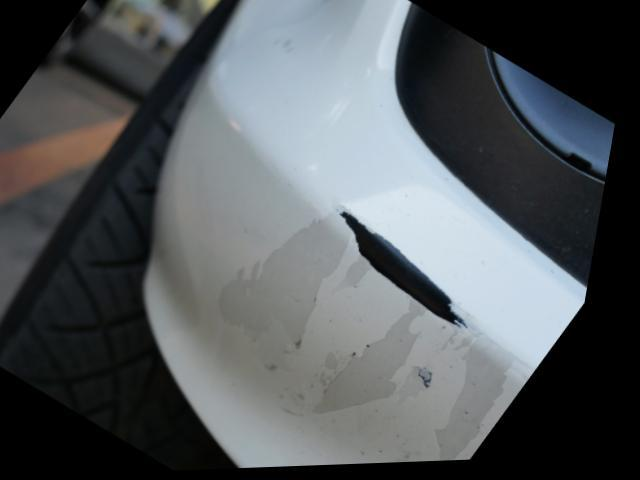rub: (224, 212, 533, 468)
scratch: (343, 209, 486, 339)
